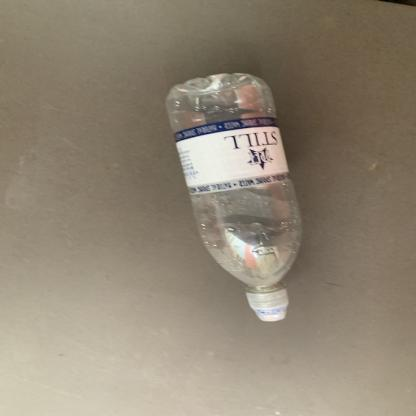trash: (165, 70, 309, 322)
